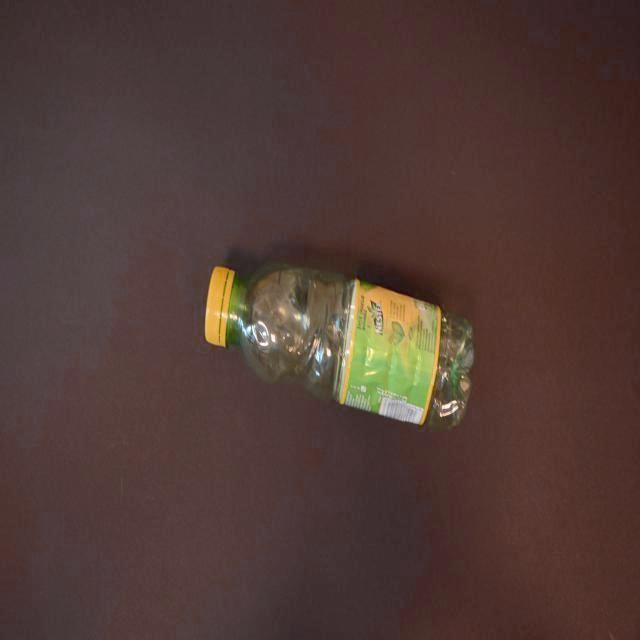bottle: (205, 266, 474, 432)
